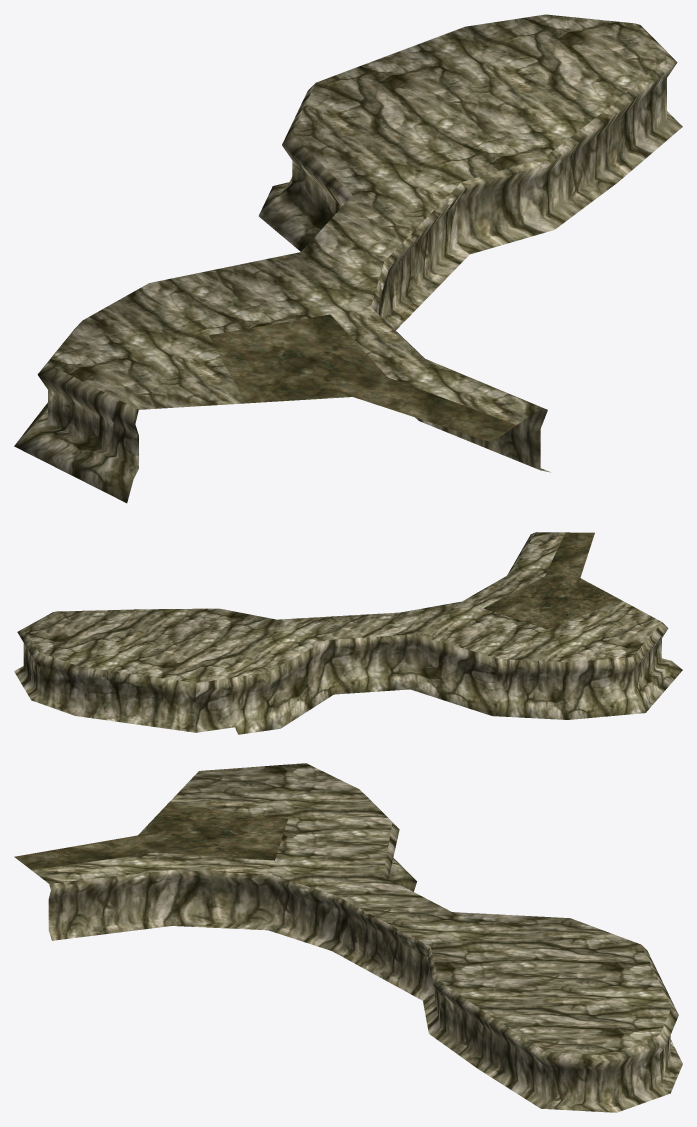
File: CB_NEWPLAYSURFACE_CB_PLAYSURFACE144.fbx
3 renders of one model, top to bottom at view 1: azimuth 30°, elevation 25°; view 2: azimuth 150°, elevation 25°; view 3: azimuth 270°, elevation 25°, orthographic. The views are drawn at different scales.
Parts seen in each view (by area): view 1: CB_NEWPLAYSURFACE_CB_PLAYSURFACE144; view 2: CB_NEWPLAYSURFACE_CB_PLAYSURFACE144; view 3: CB_NEWPLAYSURFACE_CB_PLAYSURFACE144.
Boxes of the visible parts, <box> form: CB_NEWPLAYSURFACE_CB_PLAYSURFACE144: <box>14,14,682,503</box>; CB_NEWPLAYSURFACE_CB_PLAYSURFACE144: <box>14,532,682,734</box>; CB_NEWPLAYSURFACE_CB_PLAYSURFACE144: <box>14,763,682,1112</box>.
Bounding box in the file's own units: 357908 × 33096 × 329172.
3 materials, 3 textured.
